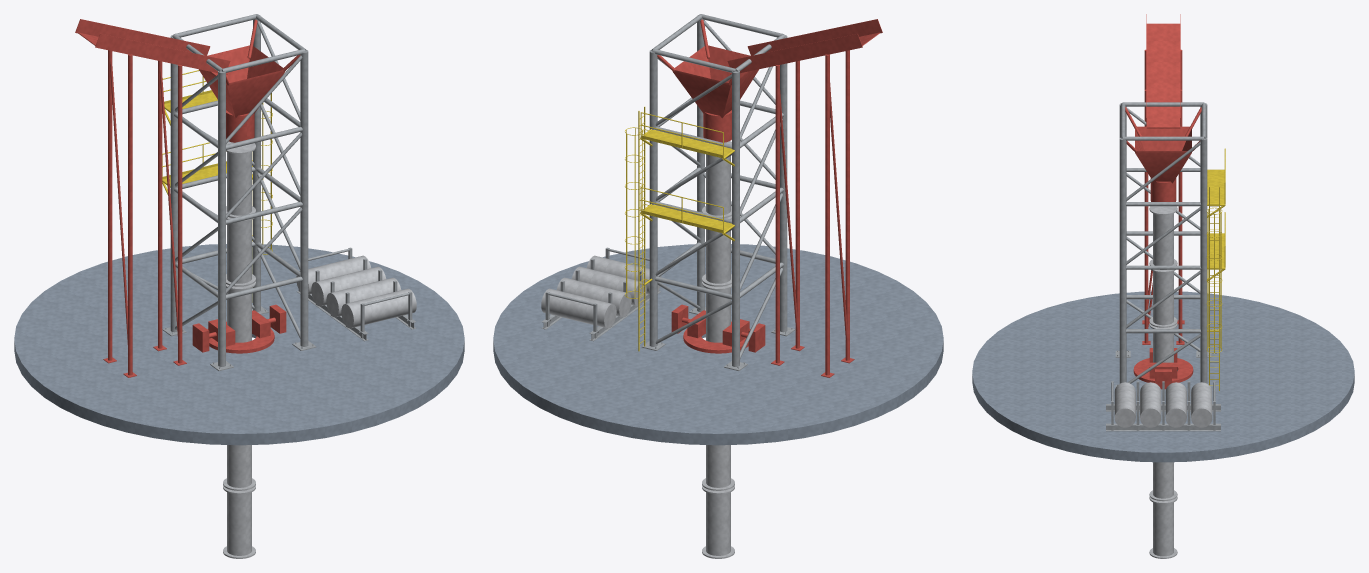
Rendered from fallpipe-towers-and-rock-chutes.glb.
3 renders of one model, left to right at view 1: azimuth 30°, elevation 25°; view 2: azimuth 150°, elevation 25°; view 3: azimuth 270°, elevation 25°, orthographic. The views are drawn at different scales.
Visible parts, largest first — view 1: VesselDeck(context), TowerFrame, Hopper&Chute, FallpipeSections, PipeClamp, AccessPlatforms&Ladder, SectionRack; view 2: VesselDeck(context), TowerFrame, Hopper&Chute, FallpipeSections, AccessPlatforms&Ladder, PipeClamp, SectionRack; view 3: VesselDeck(context), FallpipeSections, TowerFrame, Hopper&Chute, AccessPlatforms&Ladder, SectionRack, PipeClamp.
Boxes of the visible parts, x1,y1,x2,y2 form: VesselDeck(context): (14,244,464,445); TowerFrame: (162,14,316,370); Hopper&Chute: (75,19,300,377); FallpipeSections: (223,141,416,558); PipeClamp: (192,304,286,353); AccessPlatforms&Ladder: (162,70,272,302); SectionRack: (297,247,415,341); VesselDeck(context): (493,244,943,445); TowerFrame: (641,14,795,370); Hopper&Chute: (657,19,882,377); FallpipeSections: (541,141,734,558); AccessPlatforms&Ladder: (625,106,734,351); PipeClamp: (671,304,765,353); SectionRack: (542,247,660,341); VesselDeck(context): (972,291,1354,462); FallpipeSections: (1114,206,1212,558); TowerFrame: (1115,102,1211,387); Hopper&Chute: (1125,14,1201,344); AccessPlatforms&Ladder: (1206,148,1225,390); SectionRack: (1106,381,1220,431); PipeClamp: (1133,348,1193,389).
Size of the model in its own units: 18 by 24.78 by 18.
Materials: 5 (5 with a texture image).
